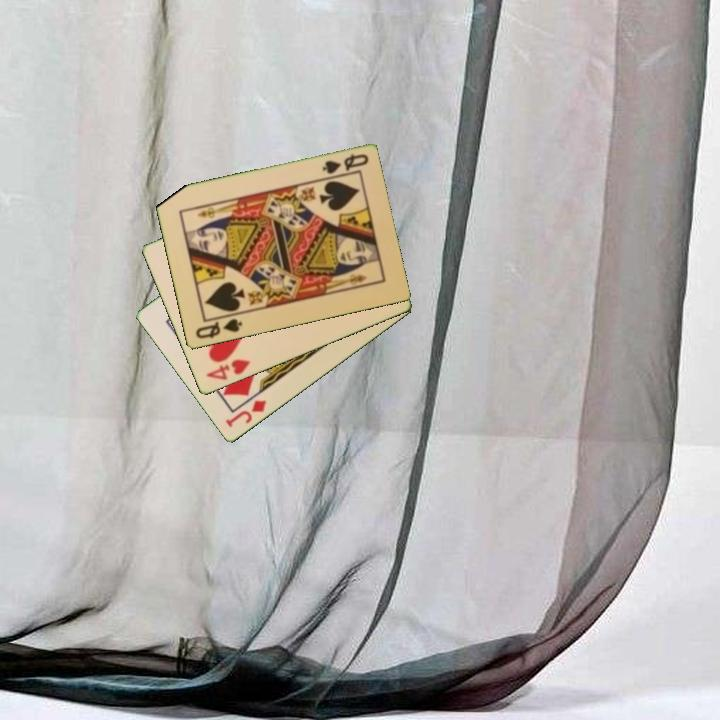4h: (202, 356, 253, 383)
Jd: (222, 397, 269, 431)
Qs: (192, 315, 245, 342), (319, 151, 371, 177)
